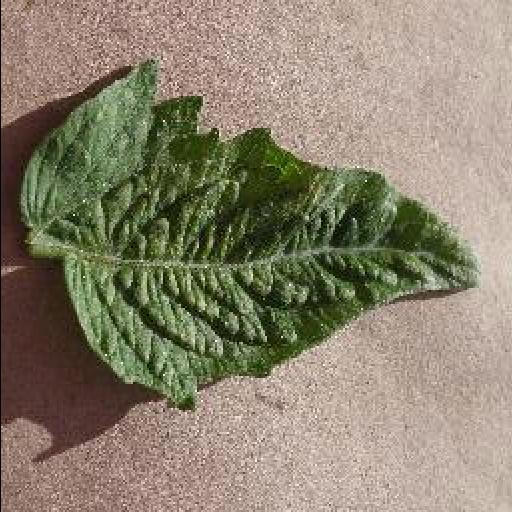disease_tomato: (17, 62, 483, 410)
